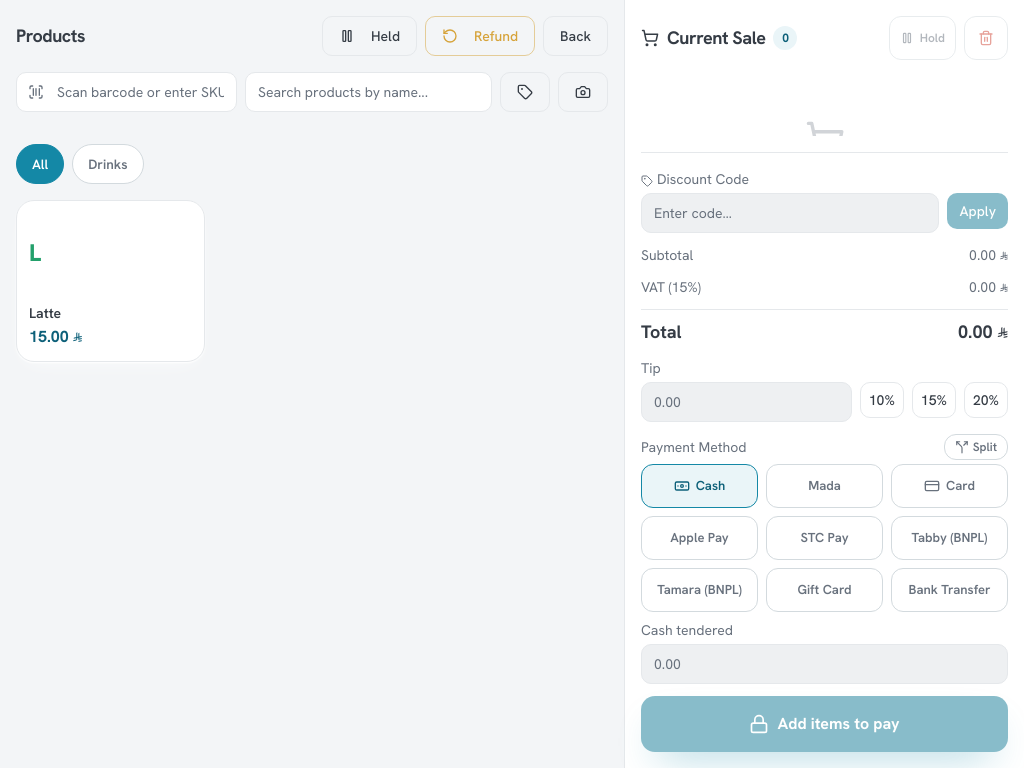
Scenario: POSTerminal remove-discount a11y (#226) › actually clears the applied discount when activated
This screenshot has width=1024, height=768.
Click the button "L Latte 15.00 ⃁" at (111, 281), box [16,200,205,362]
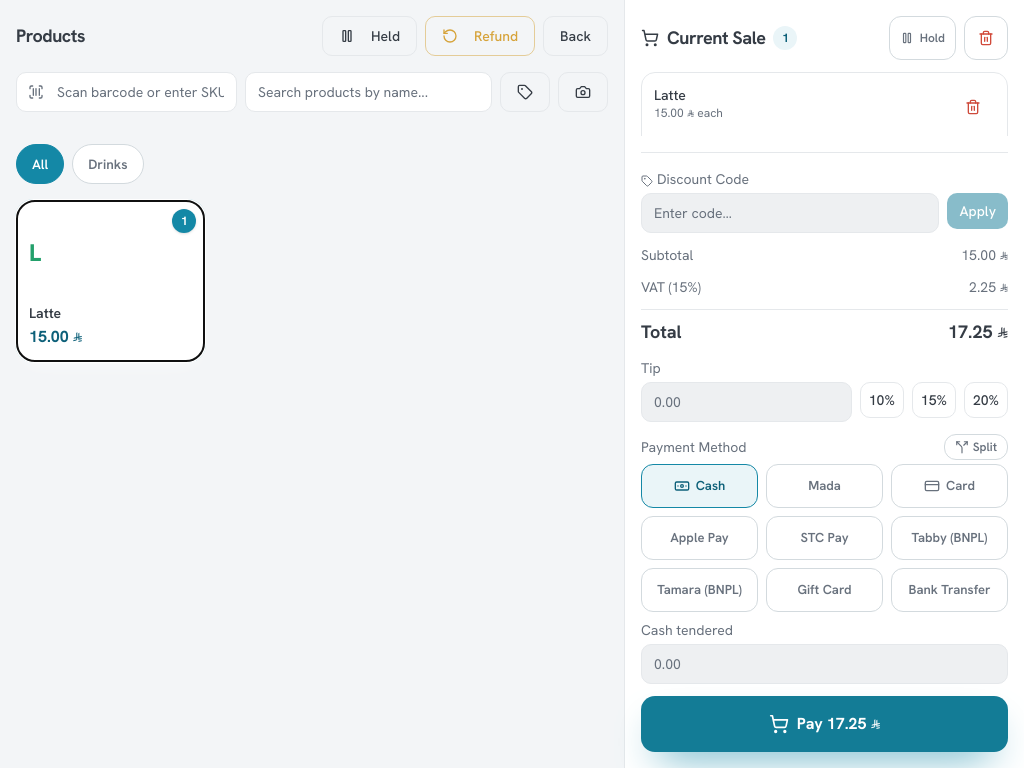
Type "SAVE10" into the field with placeholder "Enter code…" at (790, 213), box [641,193,940,233]
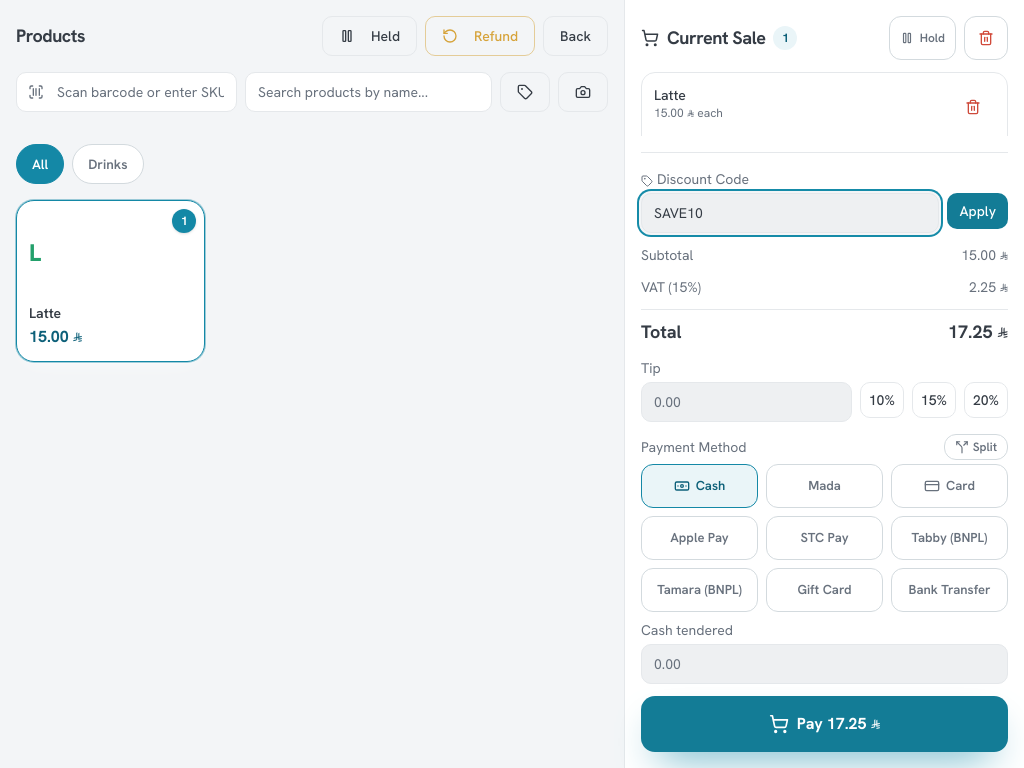
Click the button "Apply" at (978, 211), box [948,193,1008,229]
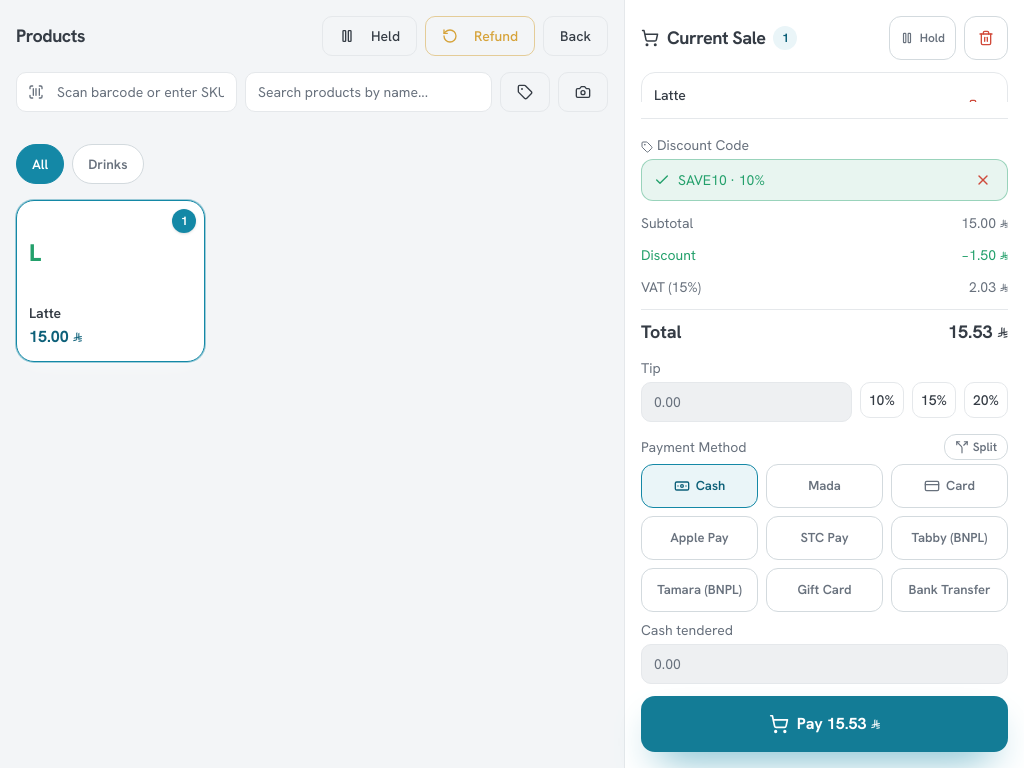
Result: the text "SAVE10 · 10%" is shown at [678,171,765,189]
Click the button named "remove discount" at (983, 180), box [971,168,995,192]
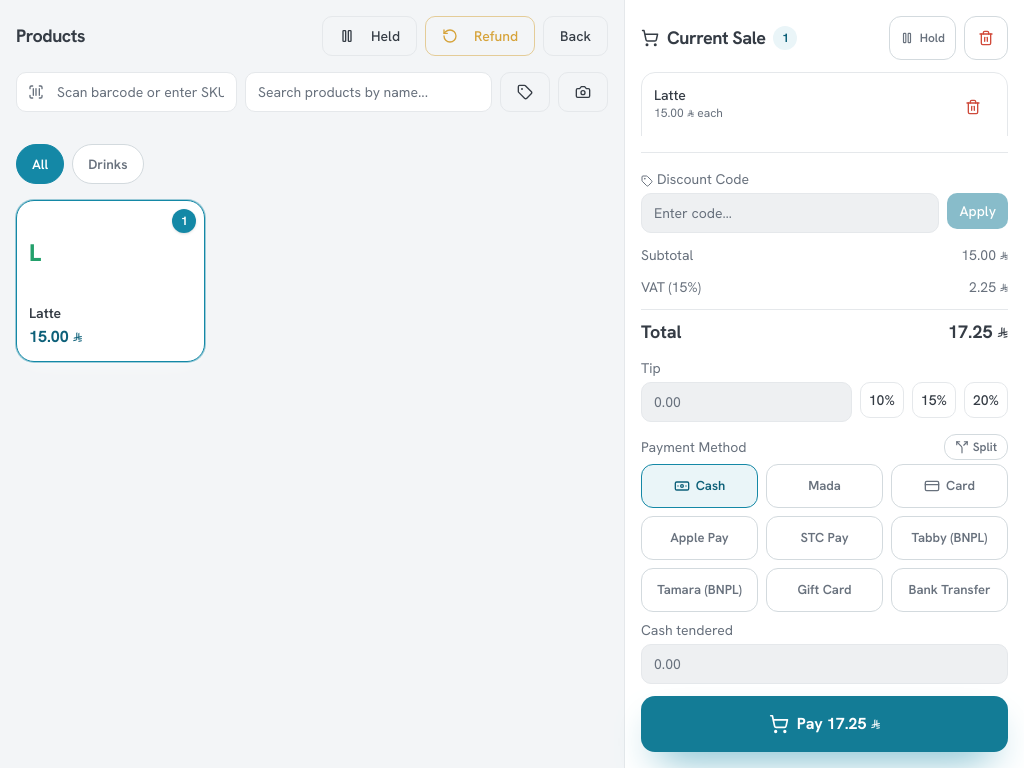
Result: the text "SAVE10" is gone
Result: the field with placeholder "Enter code…" is shown at [641,193,940,233]
